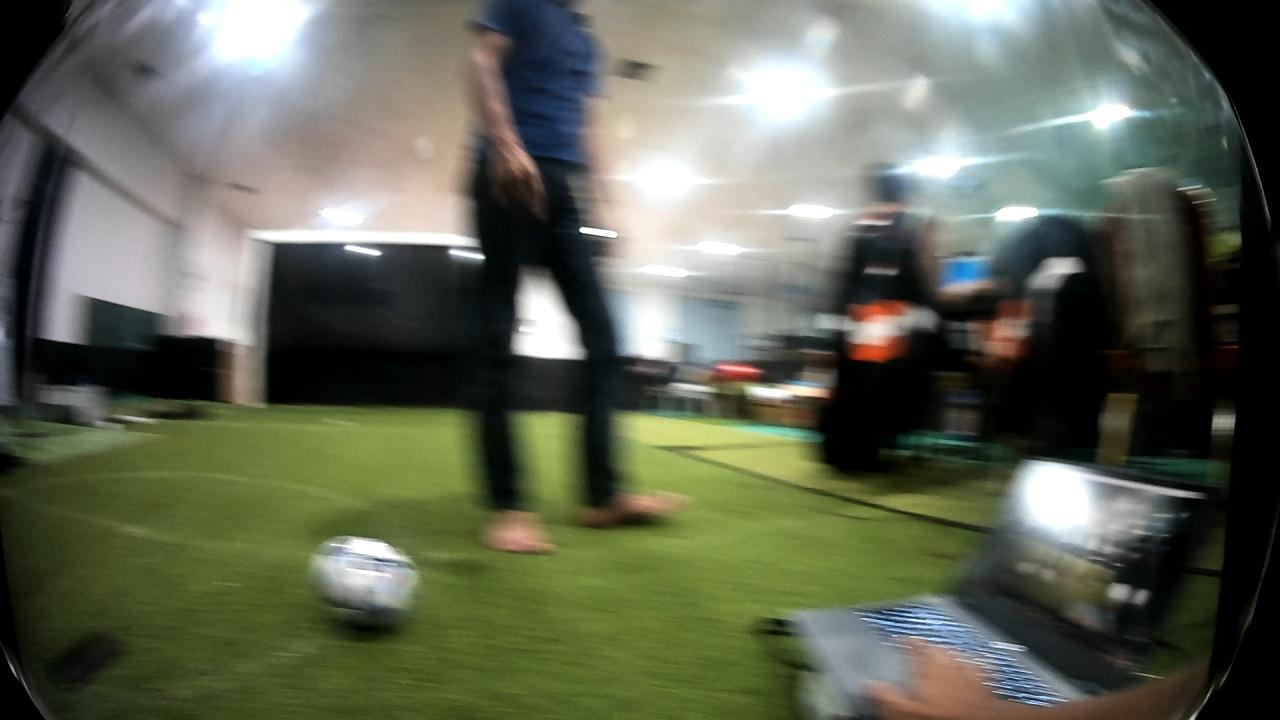ball: (303, 526, 429, 634)
